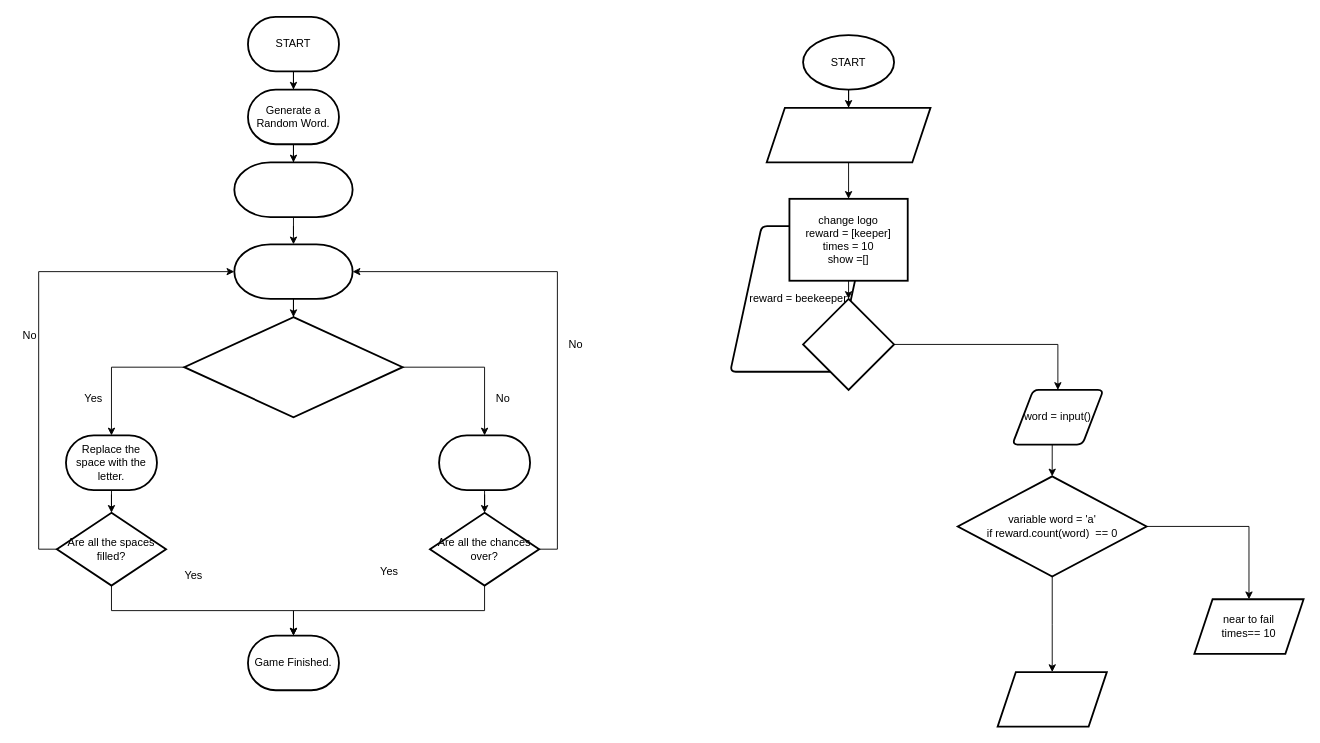
This 1320x743 diagram has some shape labels left out. The shapes that lost their labels are listed below. From the top down, each one's centre as x and y in pixels, then its label:
the point at 848,134: print Logo
the point at 293,189: Generate as many blank spaces as in the Random Word.
the point at 293,271: Ask the User to Guess a letter.
the point at 848,344: while
the point at 293,367: Check if the letter exists in the word.
the point at 484,462: User loses a life
